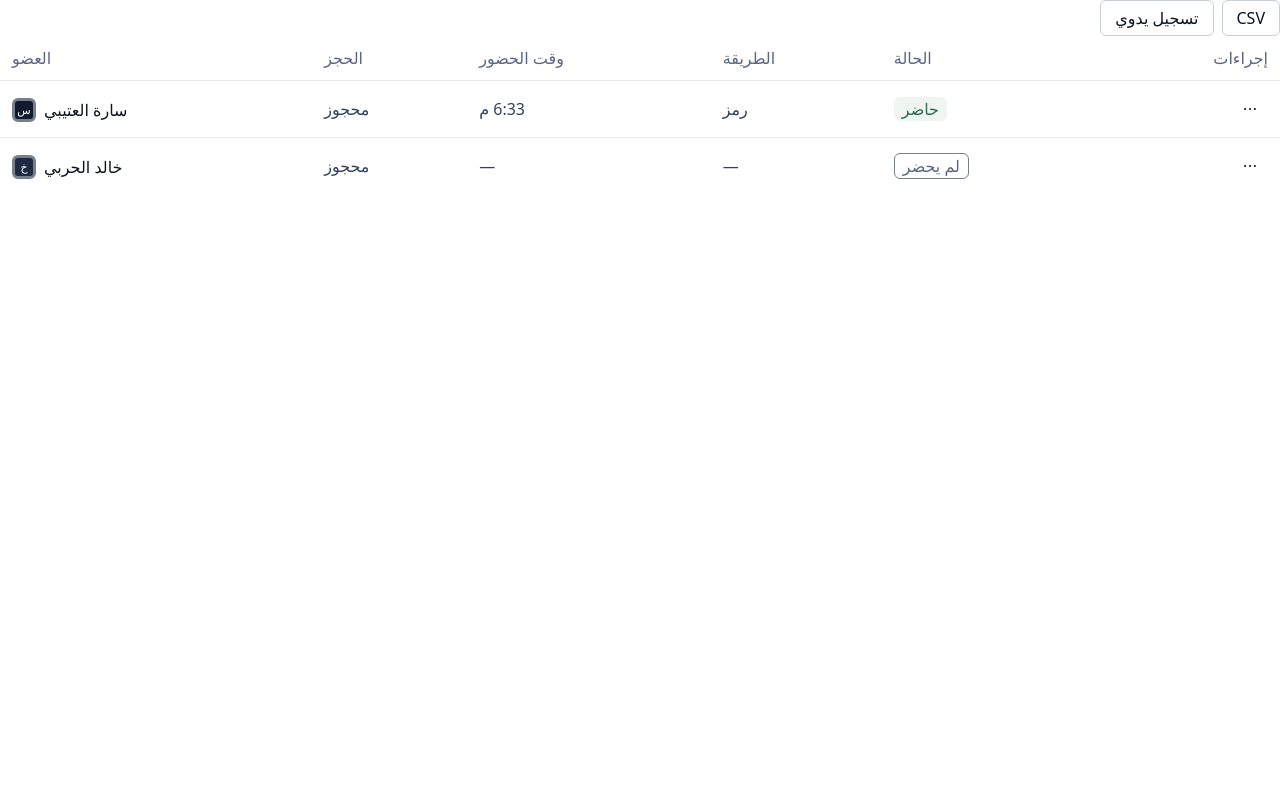
SCR-044's revoke (REQ-CHK-017) › confirming submits the member, the day and the reason, and closes on success
Click the button named "إجراءات سارة العتيبي" at (1250, 109), box [1232, 91, 1268, 127]
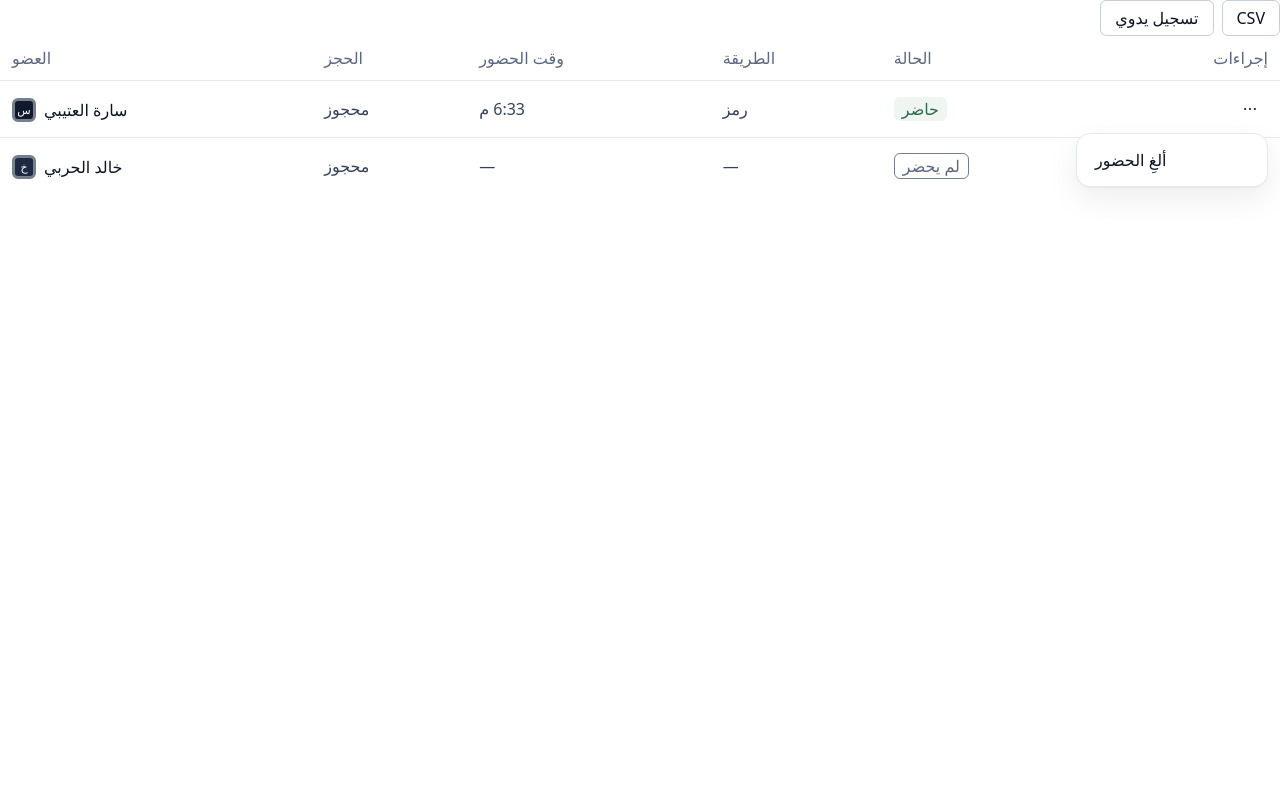
Click the menu item "ألغِ الحضور" at (1131, 160), box [1095, 149, 1166, 171]
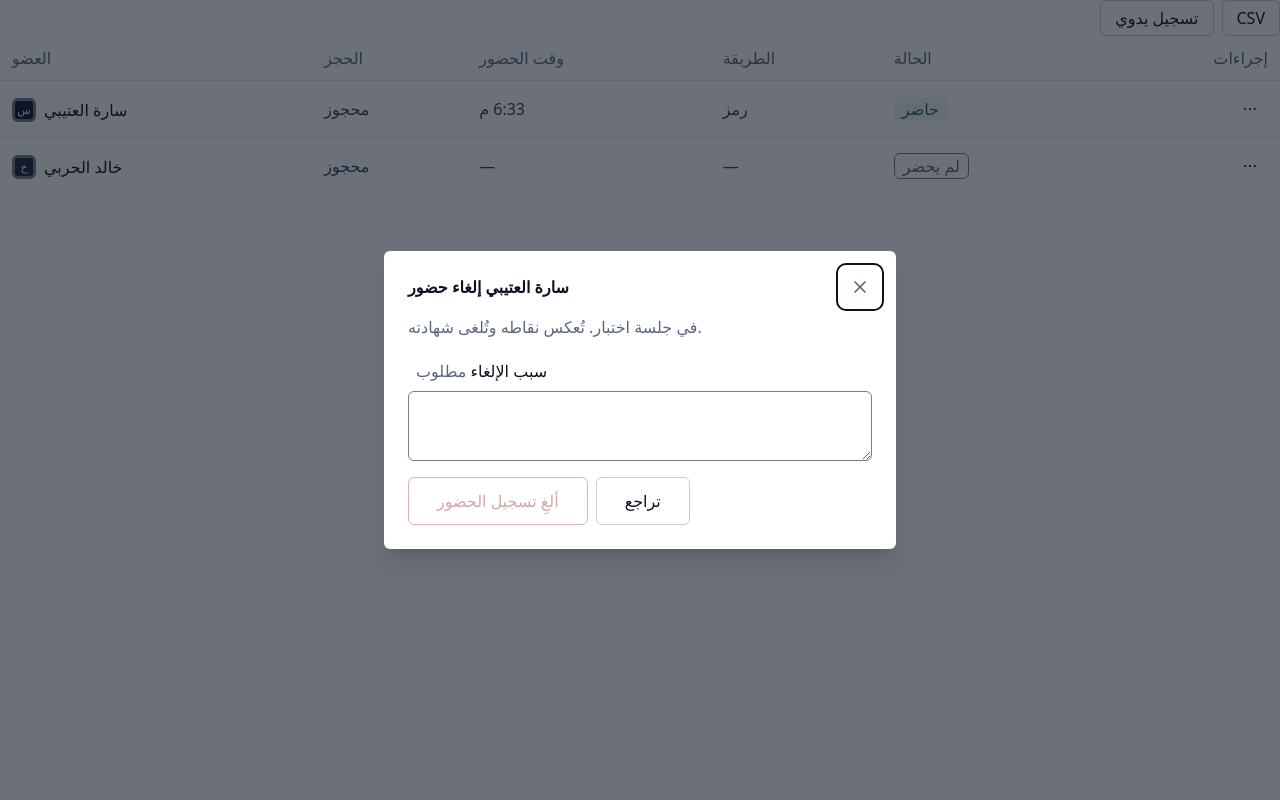
Type "خطأ في التسجيل" into the text box labelled "سبب الإلغاء" at (640, 426), box [408, 391, 872, 461]
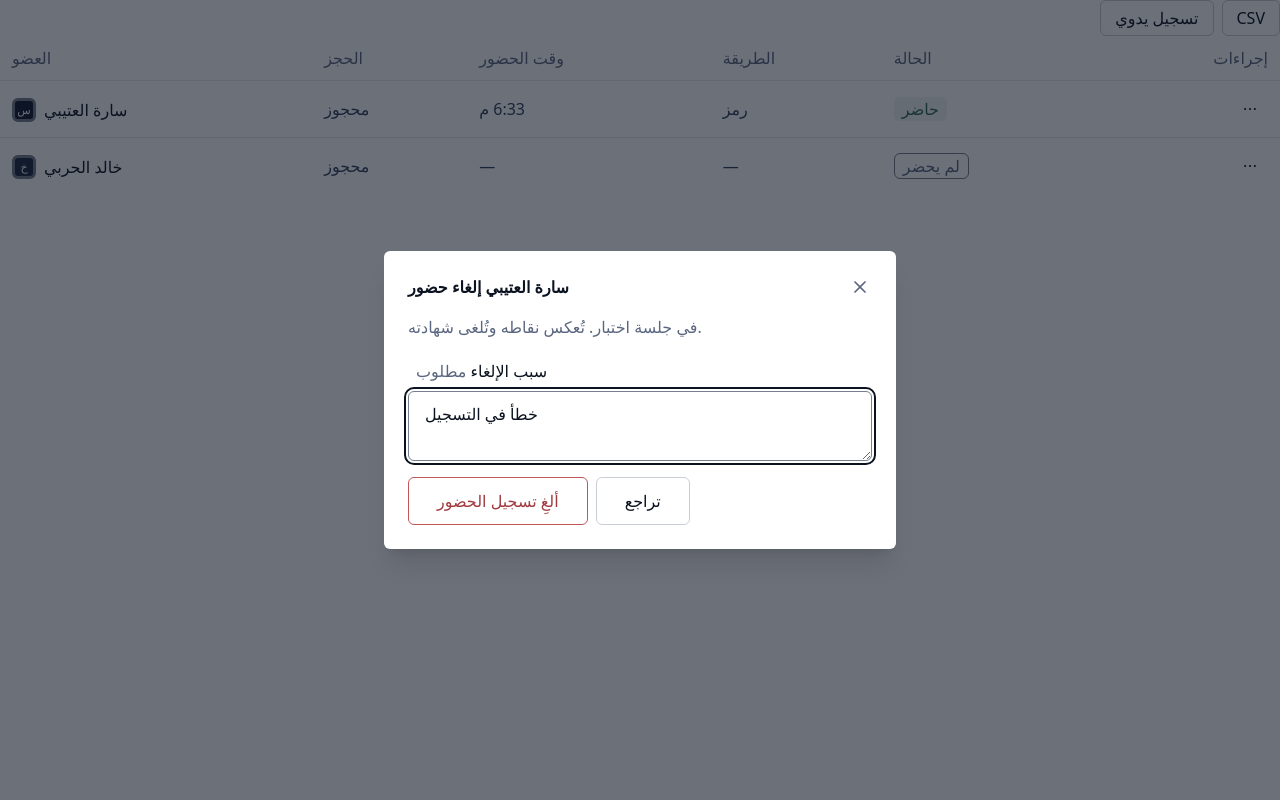
Click the button "ألغِ تسجيل الحضور" at (498, 501), box [408, 477, 588, 525]
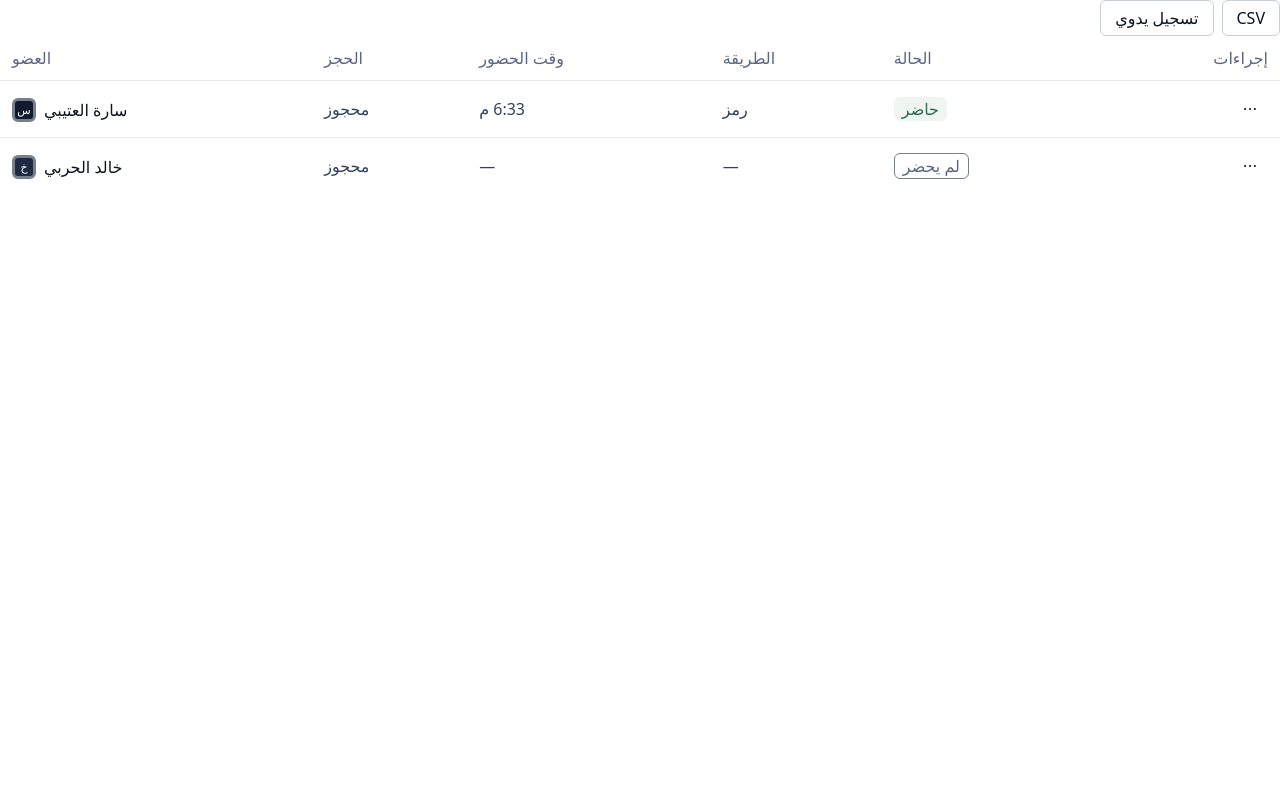
Result: the dialog is gone
